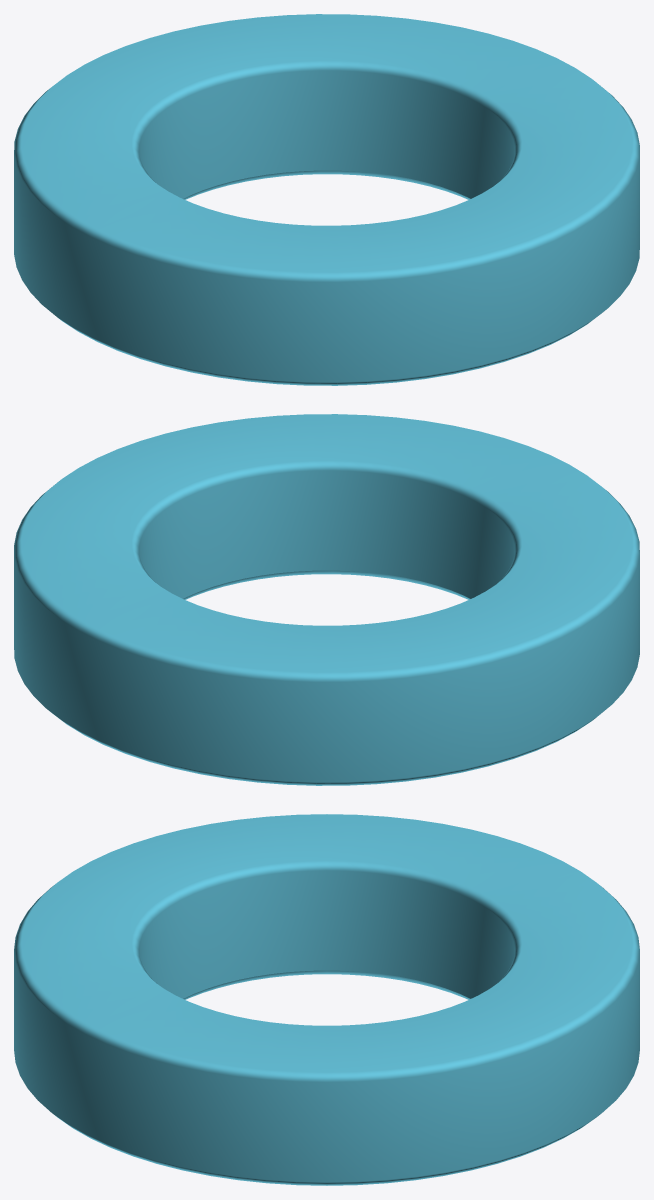
The picture shows the model from 3 angles, top to bottom: view 1: azimuth 30°, elevation 25°; view 2: azimuth 150°, elevation 25°; view 3: azimuth 270°, elevation 25°; orthographic projection.
Visible parts, largest first — view 1: seal_body; view 2: seal_body; view 3: seal_body.
Boxes of the visible parts, x1,y1,x2,y2 form: seal_body: [14, 14, 639, 385]; seal_body: [14, 414, 639, 785]; seal_body: [14, 814, 639, 1185].
Size of the model in its own units: 0.0318 by 0.00635 by 0.0318.
